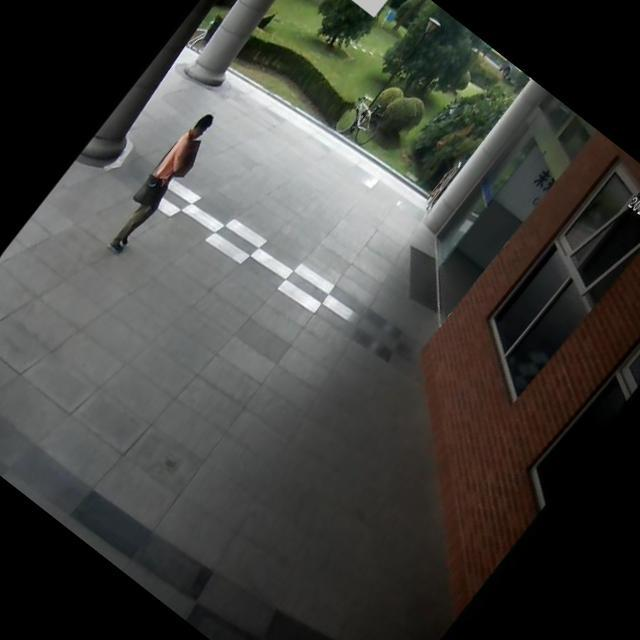person: (95, 103, 232, 265)
